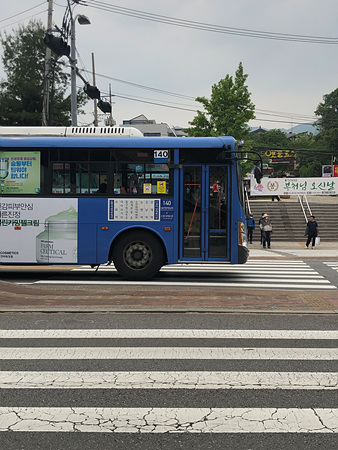entrance: (178, 157, 235, 261)
